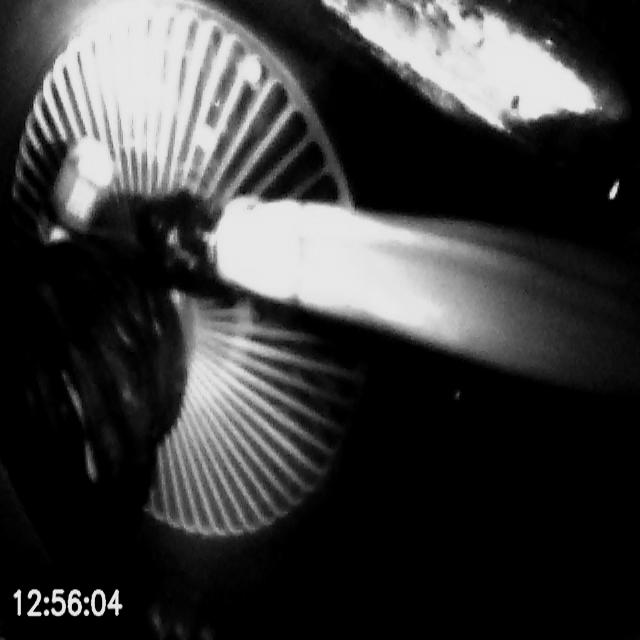head: (37, 137, 113, 245)
